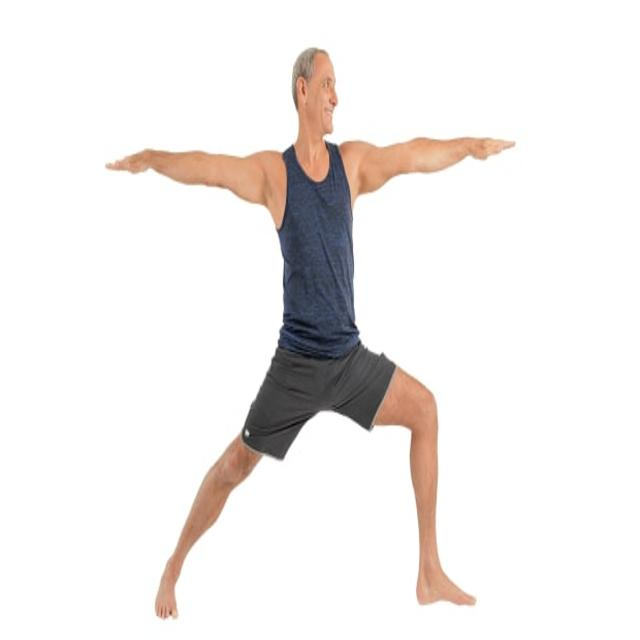Warrior_II: (102, 45, 519, 623)
